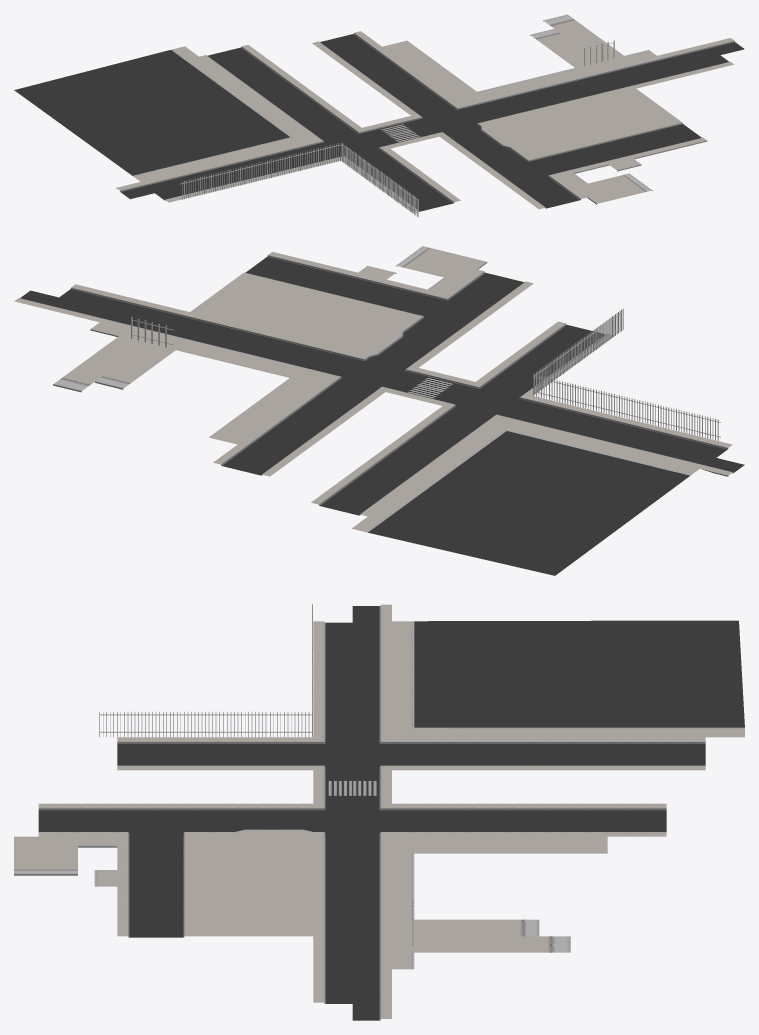
Rendered from Level4.FBX.
3 views of the same model, one above another, from view 1: azimuth 30°, elevation 25°; view 2: azimuth 150°, elevation 25°; view 3: azimuth 270°, elevation 25° (orthographic). The views are drawn at different scales.
Parts seen in each view (by area): view 1: _AllRoads_L4, _Fence_L4; view 2: _AllRoads_L4, _Fence_L4; view 3: _AllRoads_L4, _Fence_L4.
Boxes of the visible parts, x1,y1,x2,y2 form: _AllRoads_L4: [14, 14, 744, 212]; _Fence_L4: [179, 40, 614, 217]; _AllRoads_L4: [14, 246, 744, 575]; _Fence_L4: [131, 308, 720, 440]; _AllRoads_L4: [14, 604, 744, 1020]; _Fence_L4: [99, 604, 413, 945].
Size of the model in its own units: 250 by 7.52 by 186.
